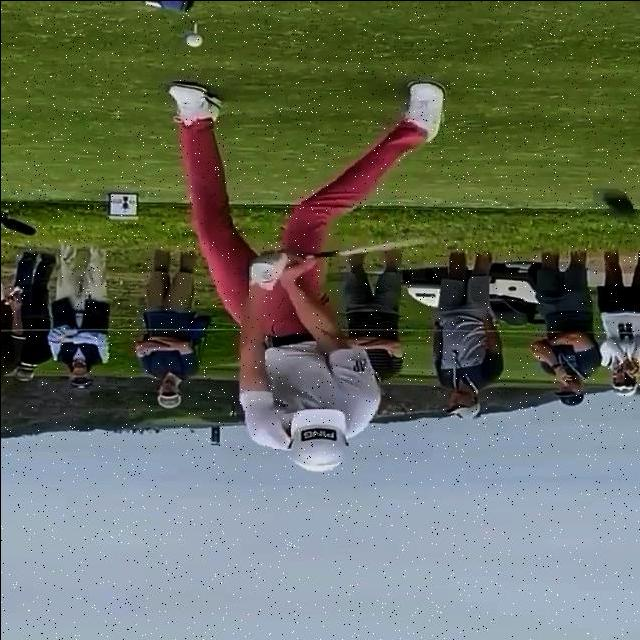ClubHandle: (313, 187, 634, 256)
ClubHead: (602, 187, 634, 217)
GolfBall: (185, 33, 202, 46)
